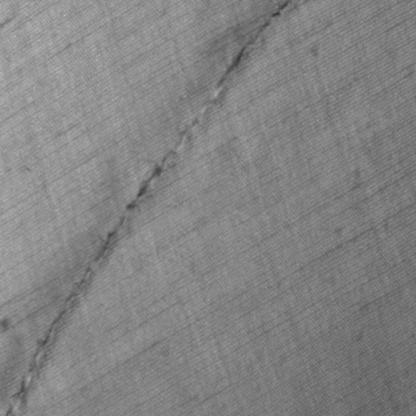objects: (1, 0, 306, 415)
